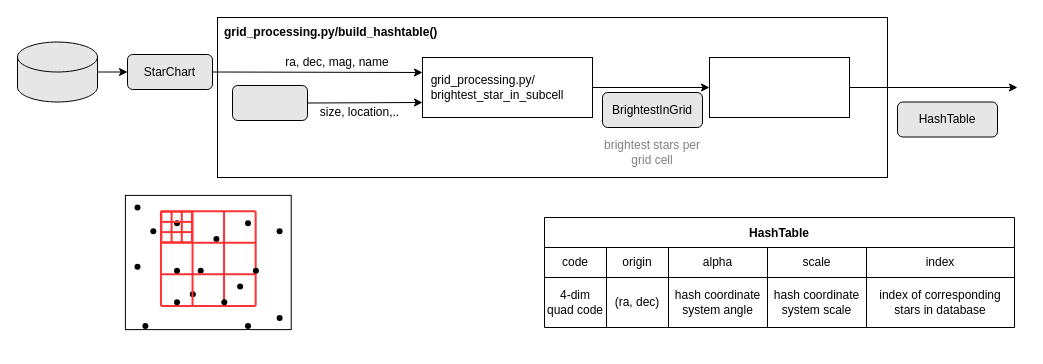
Some shapes in this 1043 by 364 pixel diagram are drawn without their labels. Here are the shapes that lost their labels. From the top down, the box of each, then its label:
(16, 41, 98, 102): HGY data
(708, 56, 850, 118): grid_processing.py/ permute_and_hash
(232, 84, 308, 120): Grid
